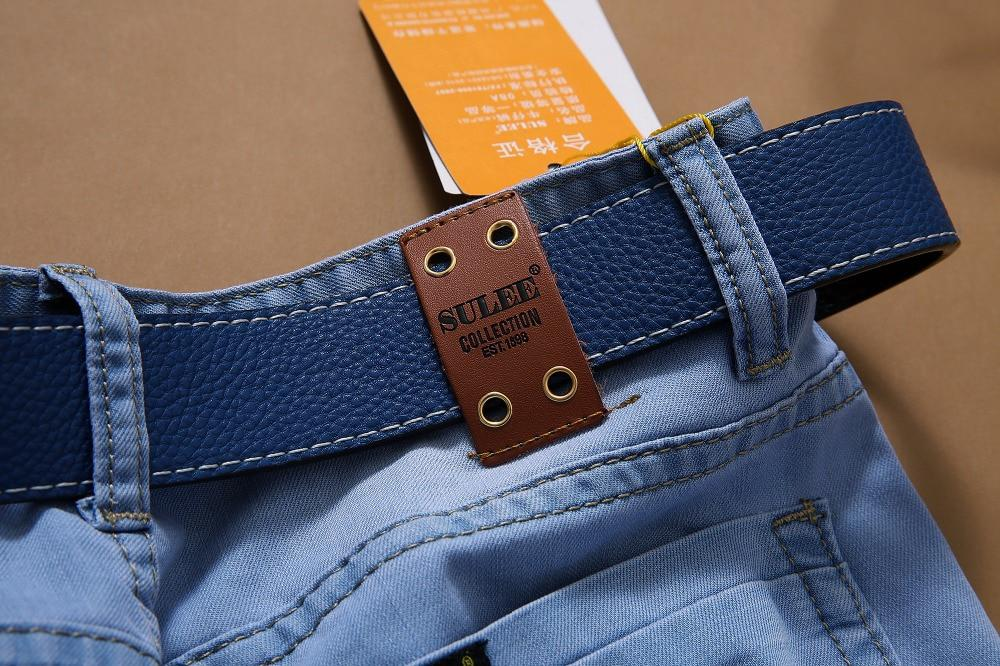jeans: (38, 99, 942, 666)
